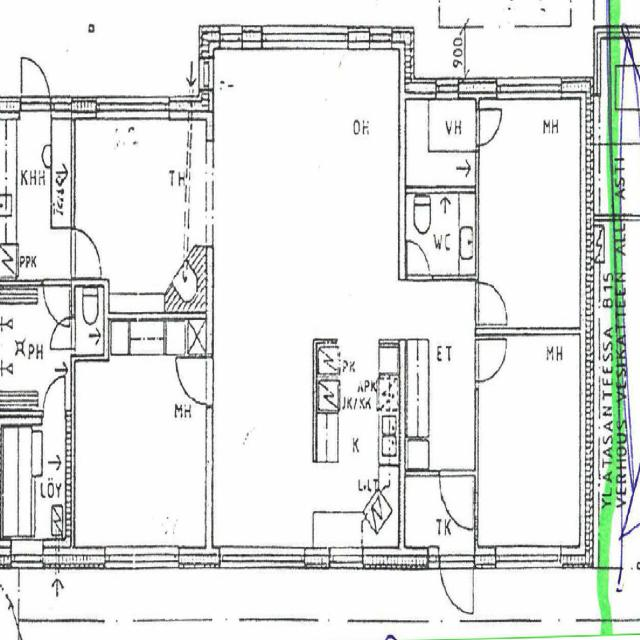door: (439, 546, 472, 620), (439, 470, 472, 530), (22, 52, 49, 119), (71, 229, 105, 278), (177, 358, 213, 404), (475, 339, 505, 381), (475, 282, 505, 324), (43, 279, 69, 327), (43, 377, 64, 425), (406, 238, 429, 280), (475, 110, 500, 145), (52, 317, 75, 348)
